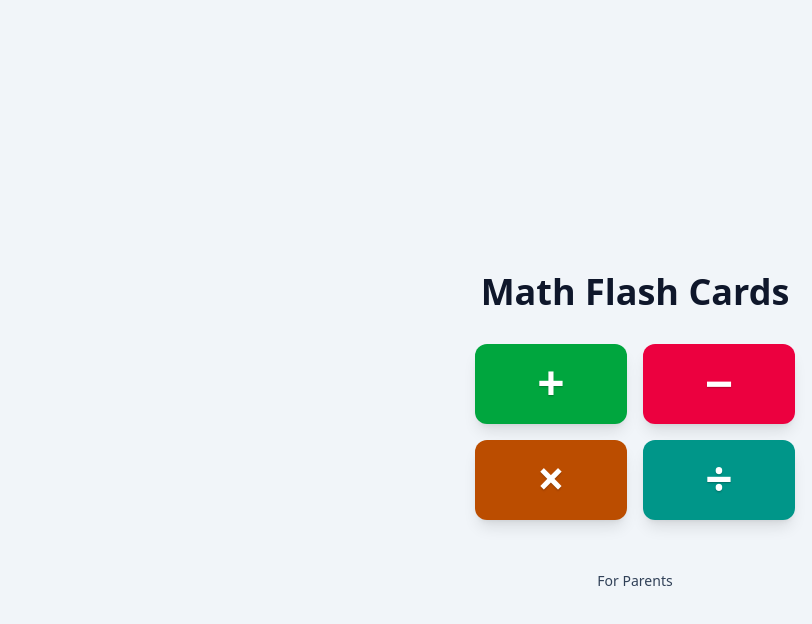
Test case: App user journeys › Division practice flow › Home → Division → division menu screen
Click the link named "division".
click(719, 480)  # box [643, 440, 795, 520]
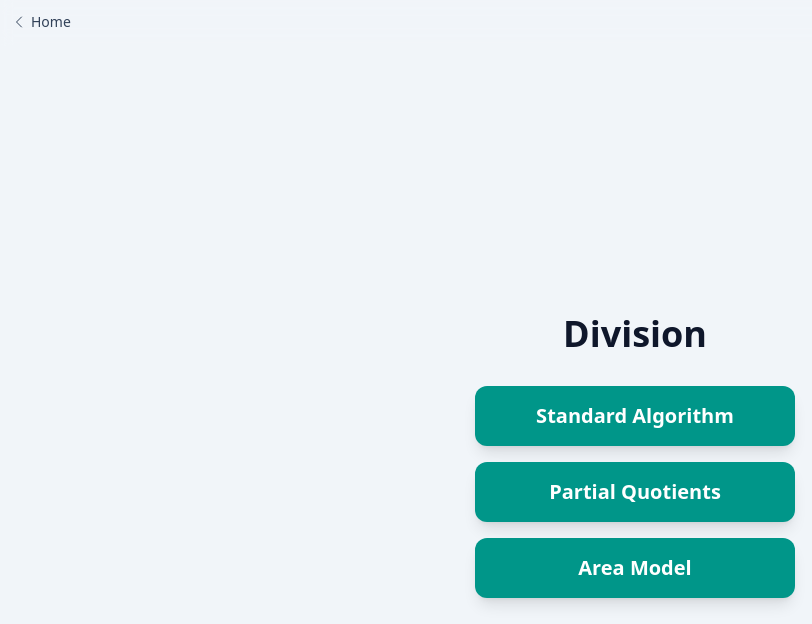
Now the heading "Division" is shown, box [563, 314, 707, 354]
Now the link "Area Model" is shown, box [475, 538, 795, 598]
Now the link "Standard Algorithm" is shown, box [475, 386, 795, 446]
